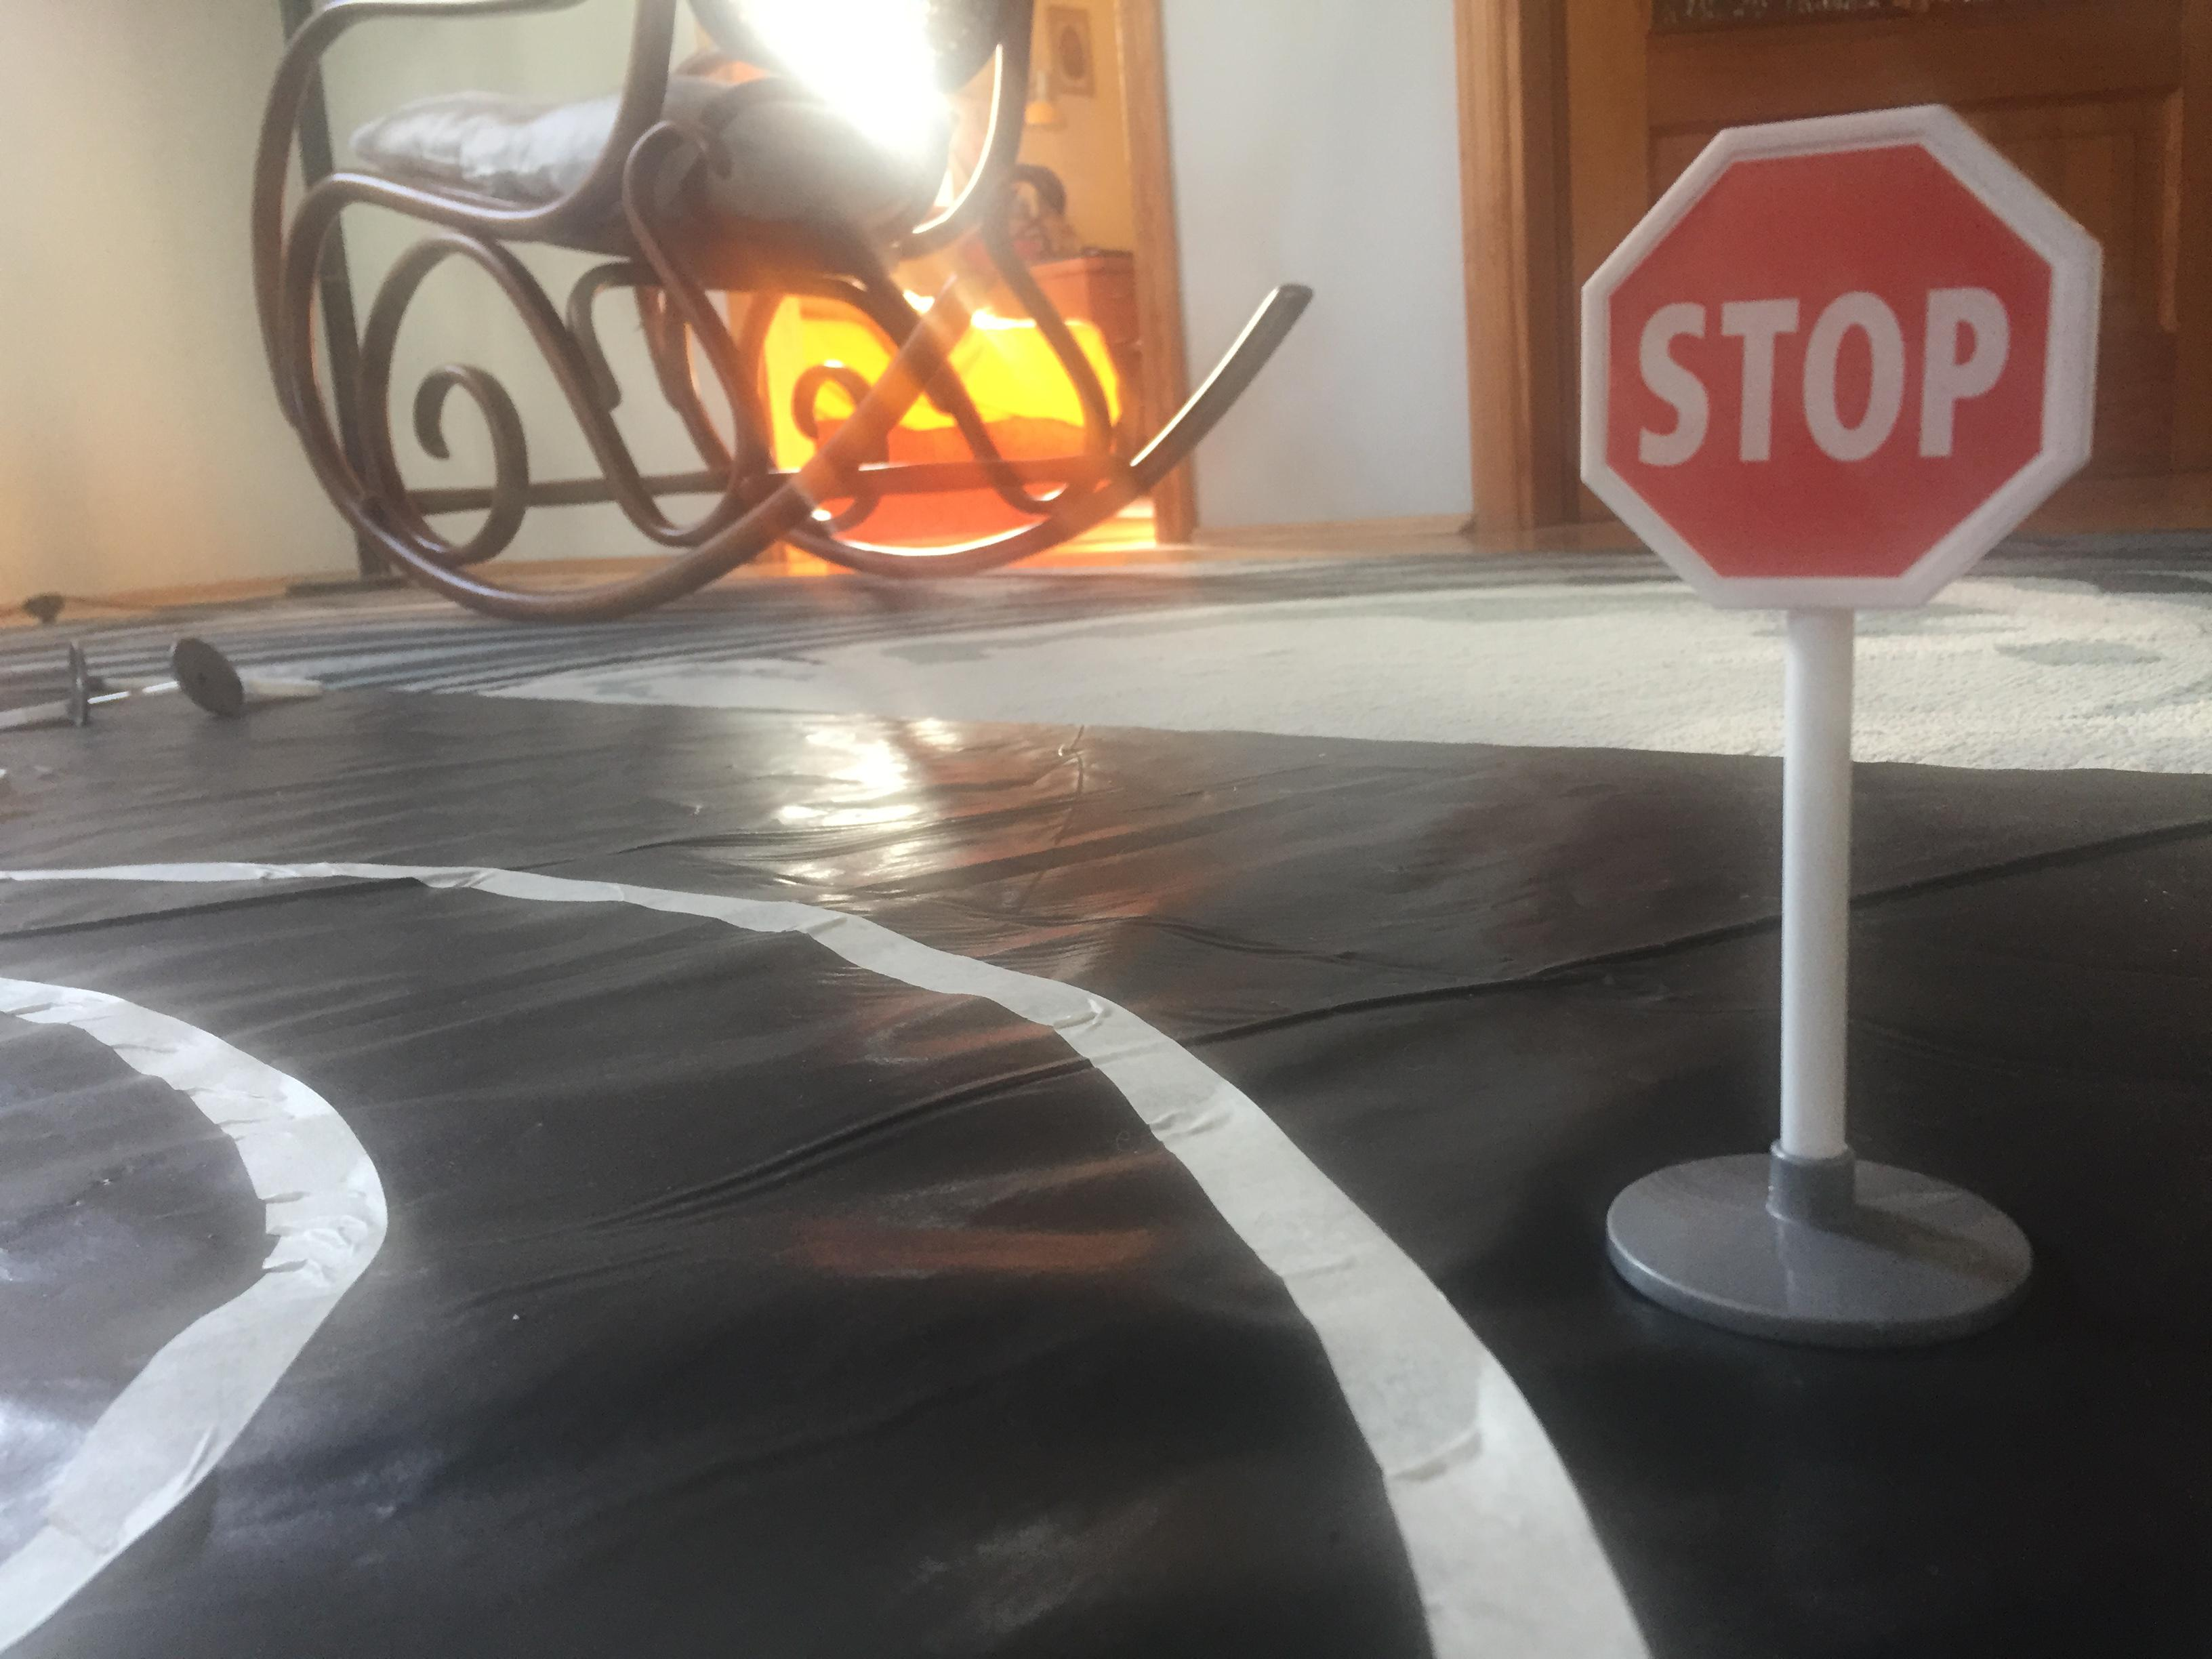stop: (1557, 101, 2139, 634)
